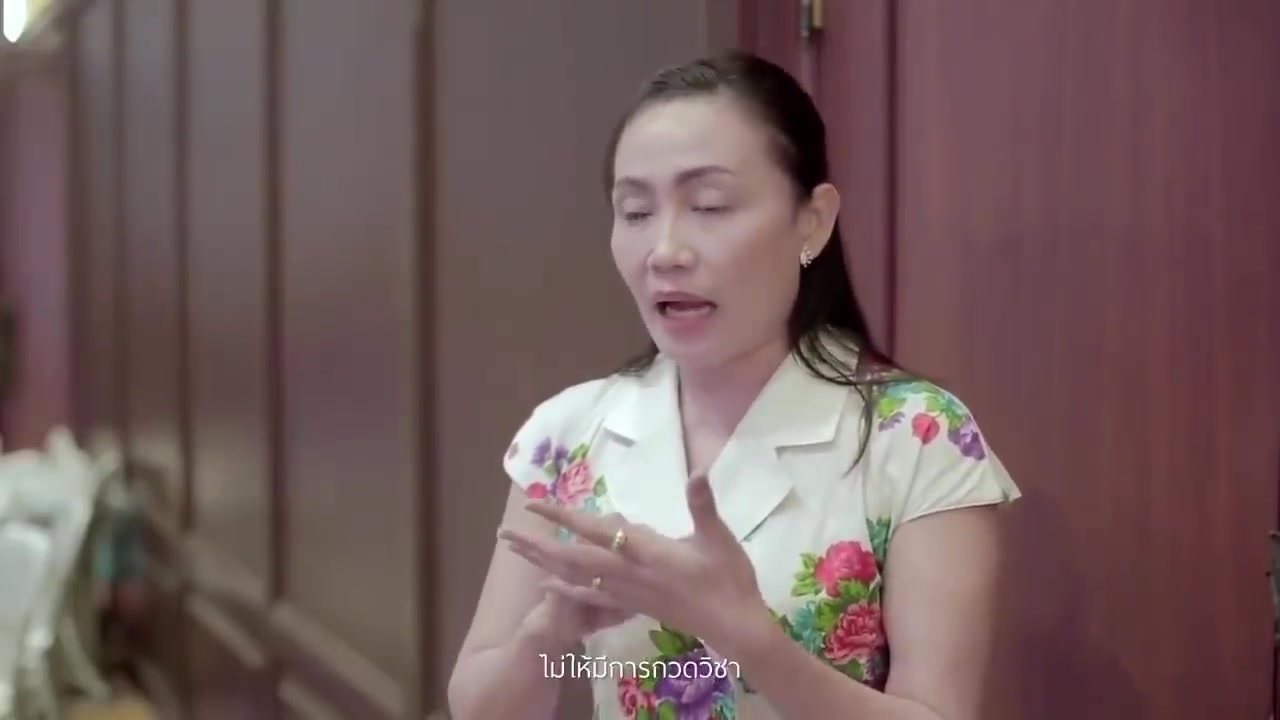text-label: (533, 646, 747, 686)
